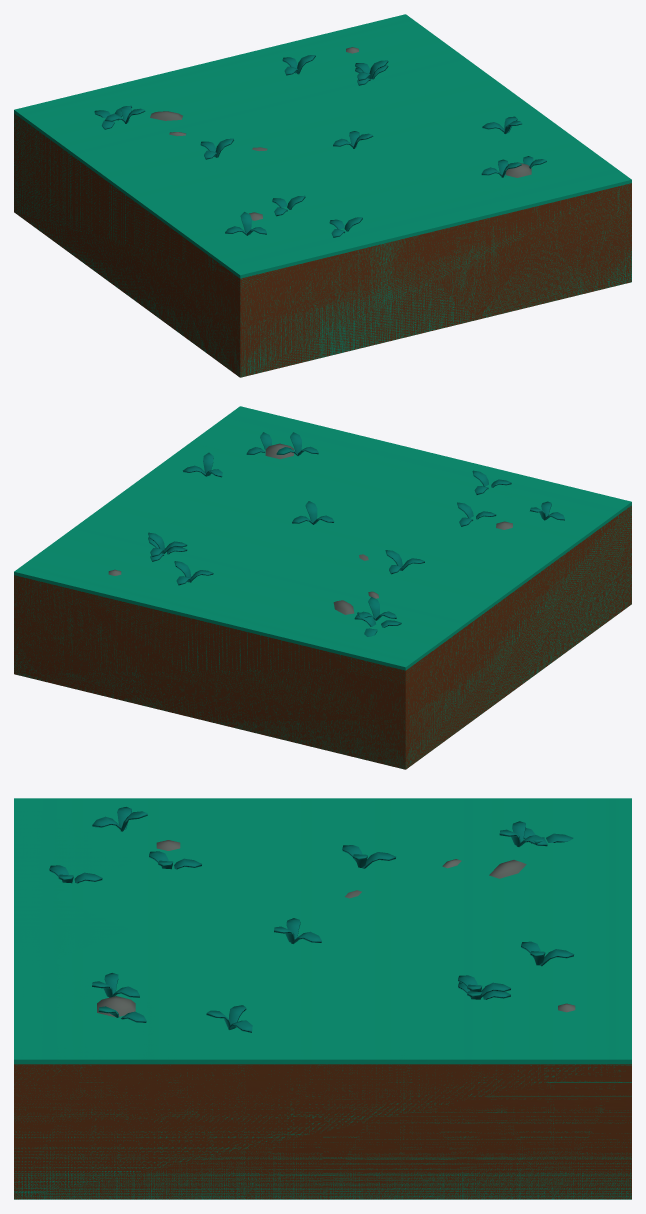
Rendered from eart.fbx.
3 renders of one model, top to bottom at view 1: azimuth 30°, elevation 25°; view 2: azimuth 150°, elevation 25°; view 3: azimuth 270°, elevation 25°, orthographic. The views are drawn at different scales.
Visible parts, largest first — view 1: grass, bud, side_grass, corner_grass; view 2: grass, bud, corner_grass, side_grass; view 3: grass, bud, corner_grass, side_grass.
Boxes of the visible parts, x1,y1,x2,y2 form: grass: (14,14,631,376); bud: (14,47,631,377); side_grass: (14,16,631,375); corner_grass: (14,16,631,377); grass: (14,406,631,769); bud: (14,432,631,769); corner_grass: (14,406,631,767); side_grass: (17,408,631,765); grass: (14,798,631,1199); bud: (14,828,631,1199); corner_grass: (14,799,631,1199); side_grass: (15,860,630,1059).
Bounding box in the file's own units: 4 × 1.15 × 4.
